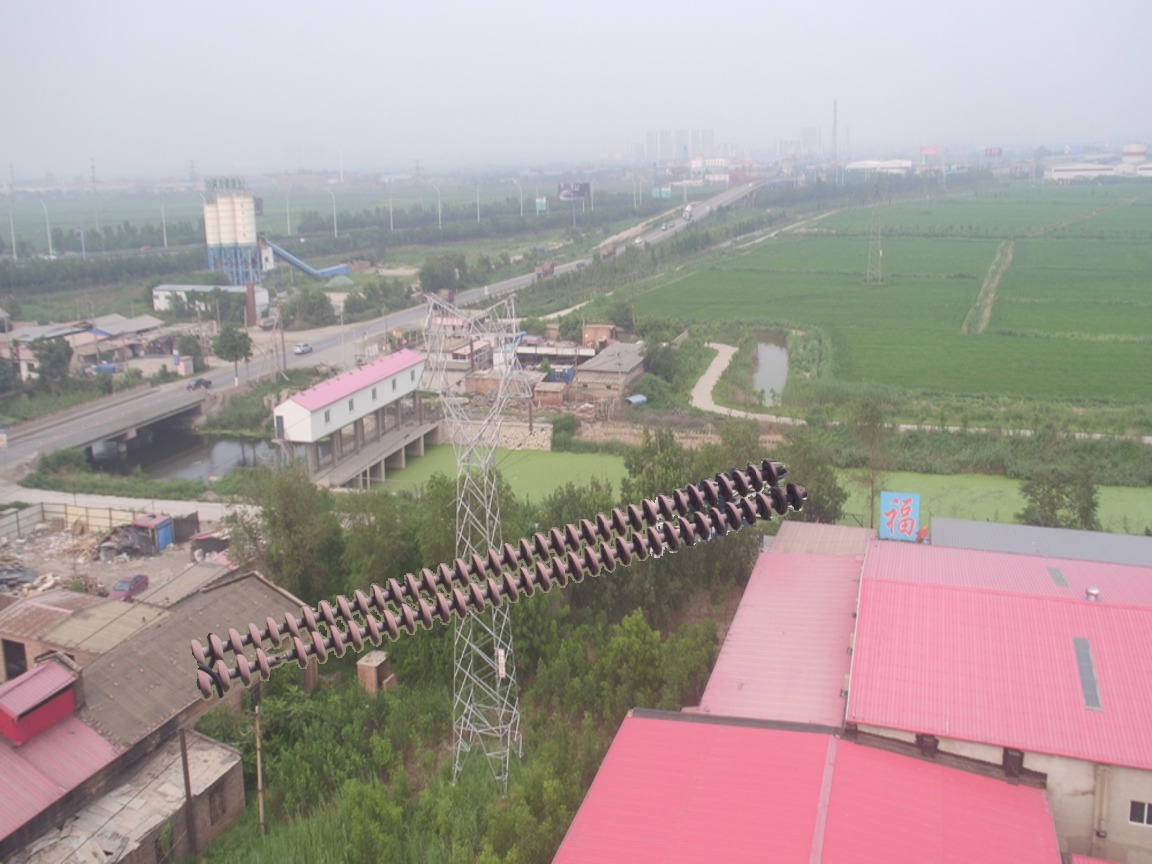defect: (249, 636, 314, 684)
